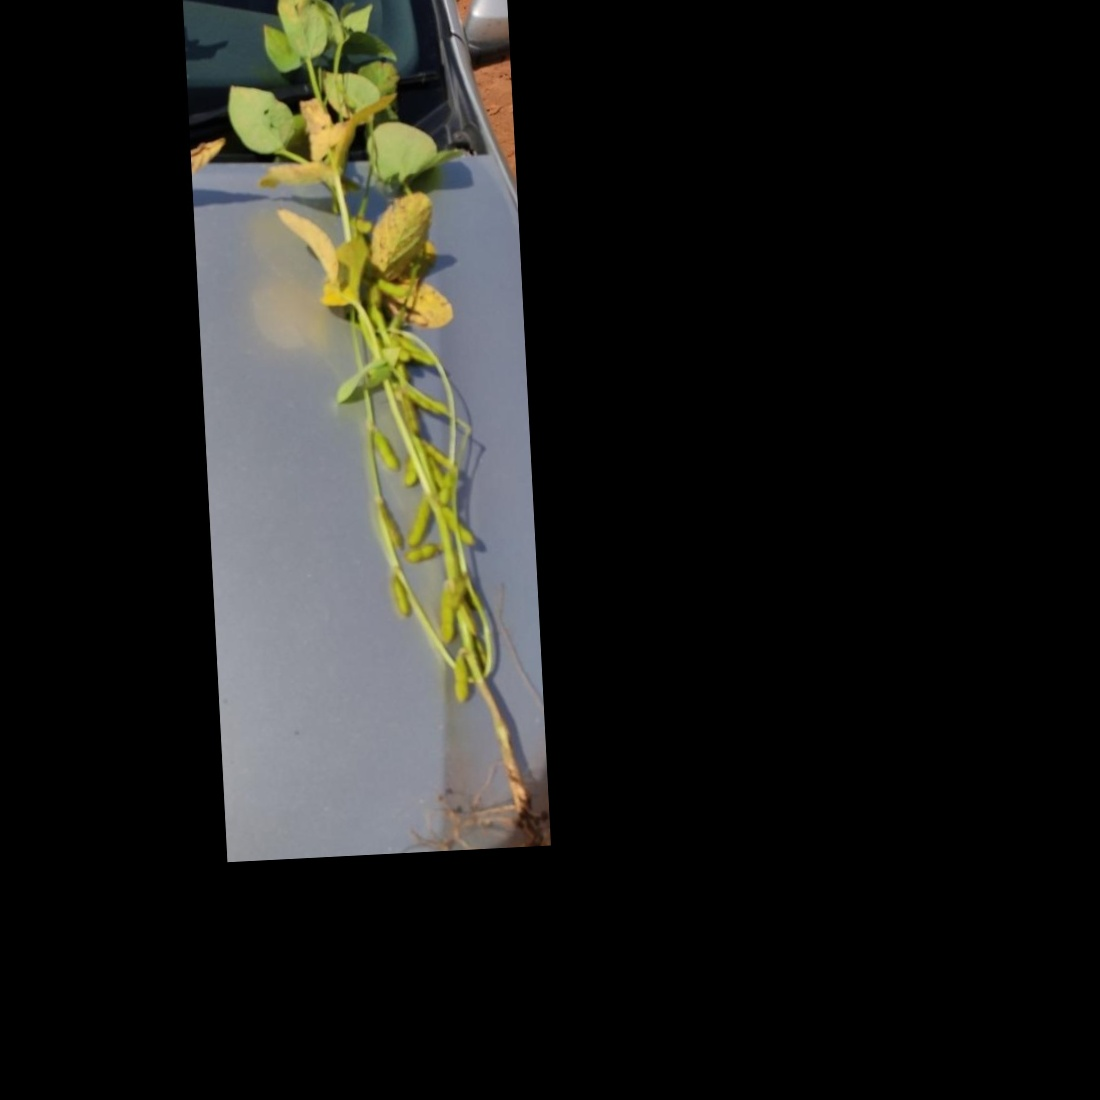pod: (409, 434, 462, 478), (442, 503, 489, 548), (403, 497, 435, 554), (368, 424, 404, 474), (435, 581, 458, 651), (449, 647, 472, 714), (388, 571, 412, 622), (400, 543, 443, 567)
soy: (238, 1, 549, 851)
